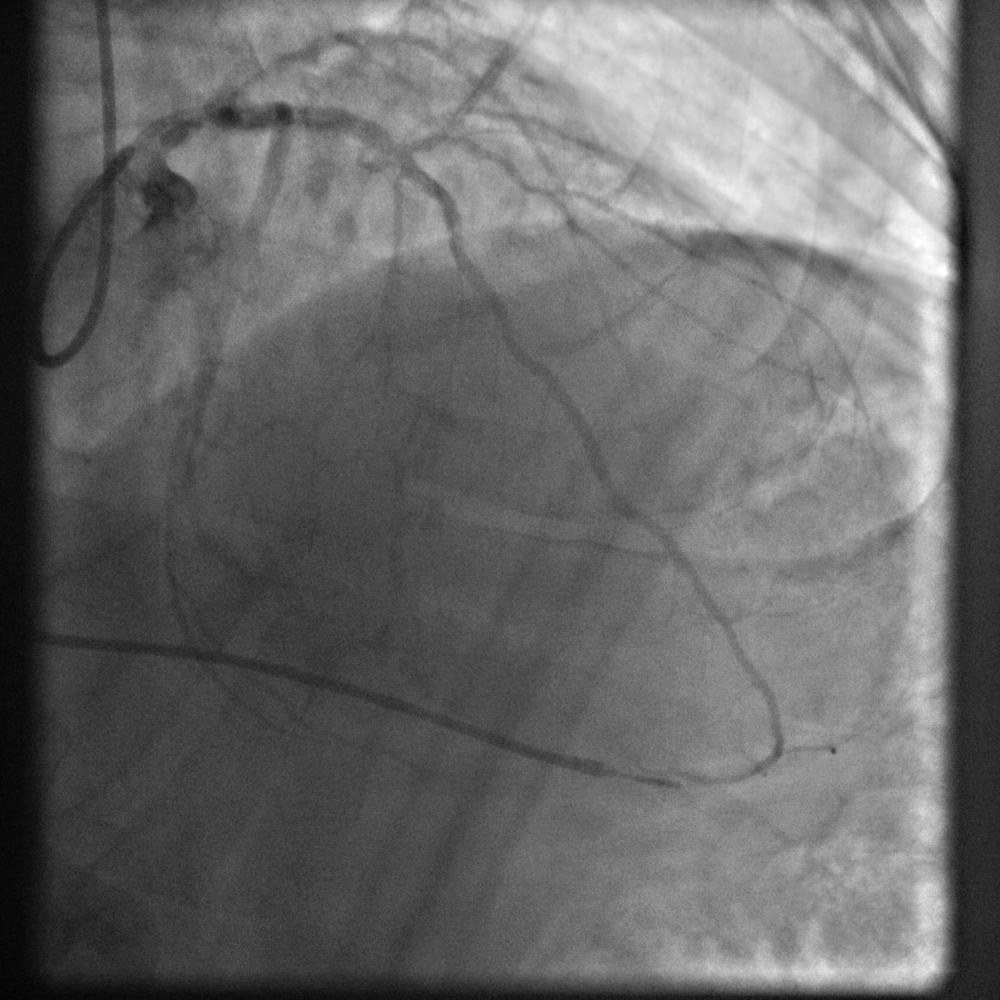Stenosis: (367, 123, 445, 174)
